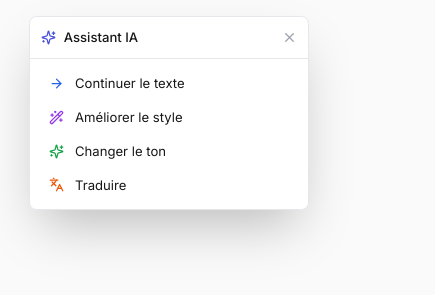
AIContextMenu › Translation Actions › should go back from translate menu
Click the button "Traduire": (101, 184) x1=38 y1=168 x2=300 y2=202
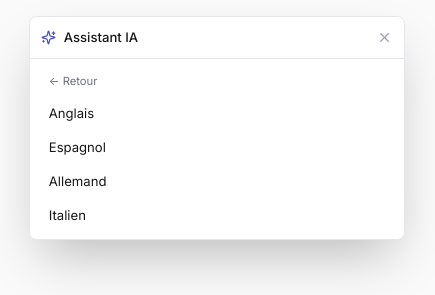
Expected: the button "← Retour" is shown
Click the button "← Retour": (73, 81) x1=38 y1=67 x2=396 y2=97
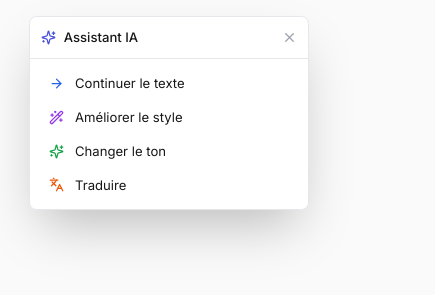
Expected: the text "Continuer le texte" is shown, x1=75 y1=74 x2=185 y2=93
